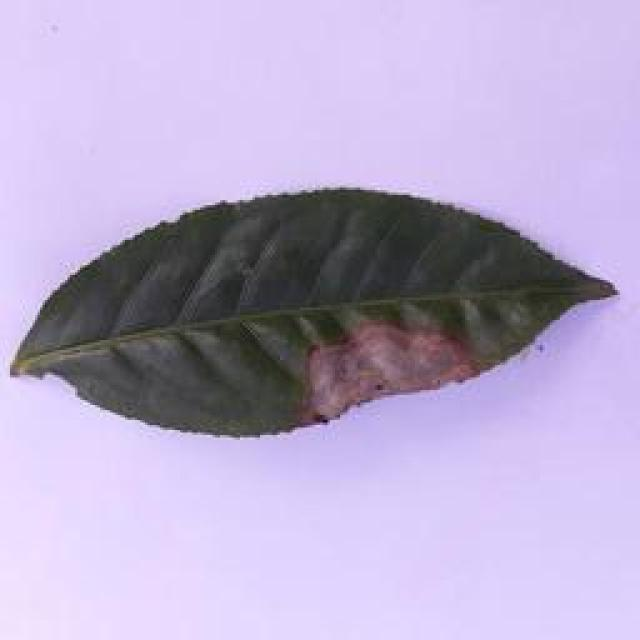Gray Blight: (7, 182, 616, 446)
